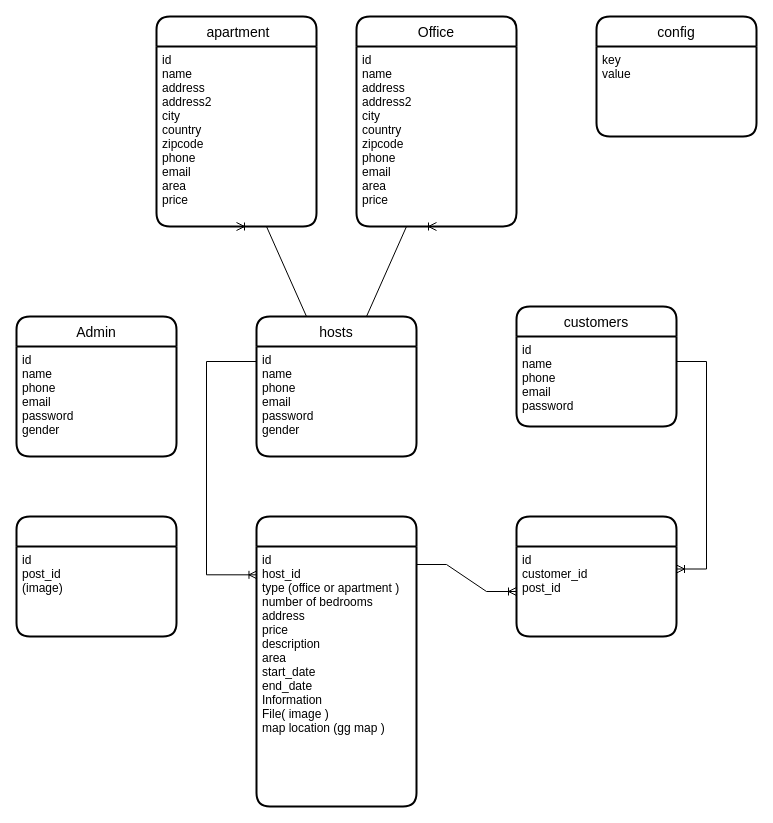
Image size: 773x823. Some labels were removed from this diagram. The box of each missing label's shape, as (x1, y1, x2, y2) in pixels:
Files: (15, 515, 177, 637)
Post: (255, 515, 417, 807)
reports: (515, 515, 677, 637)
